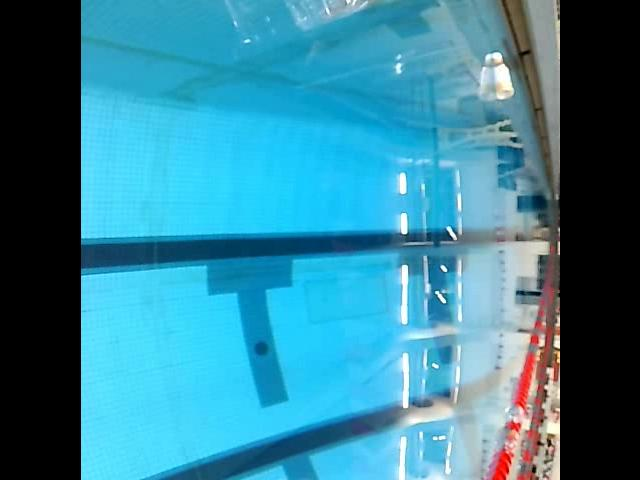Bottle: (239, 0, 391, 34), (482, 50, 516, 110)
